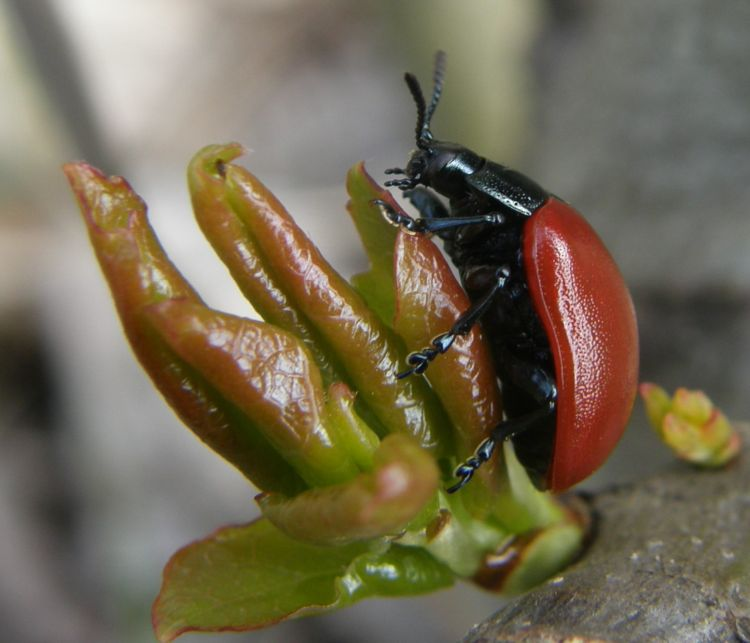Chrysomela_populi: (365, 36, 641, 487)
